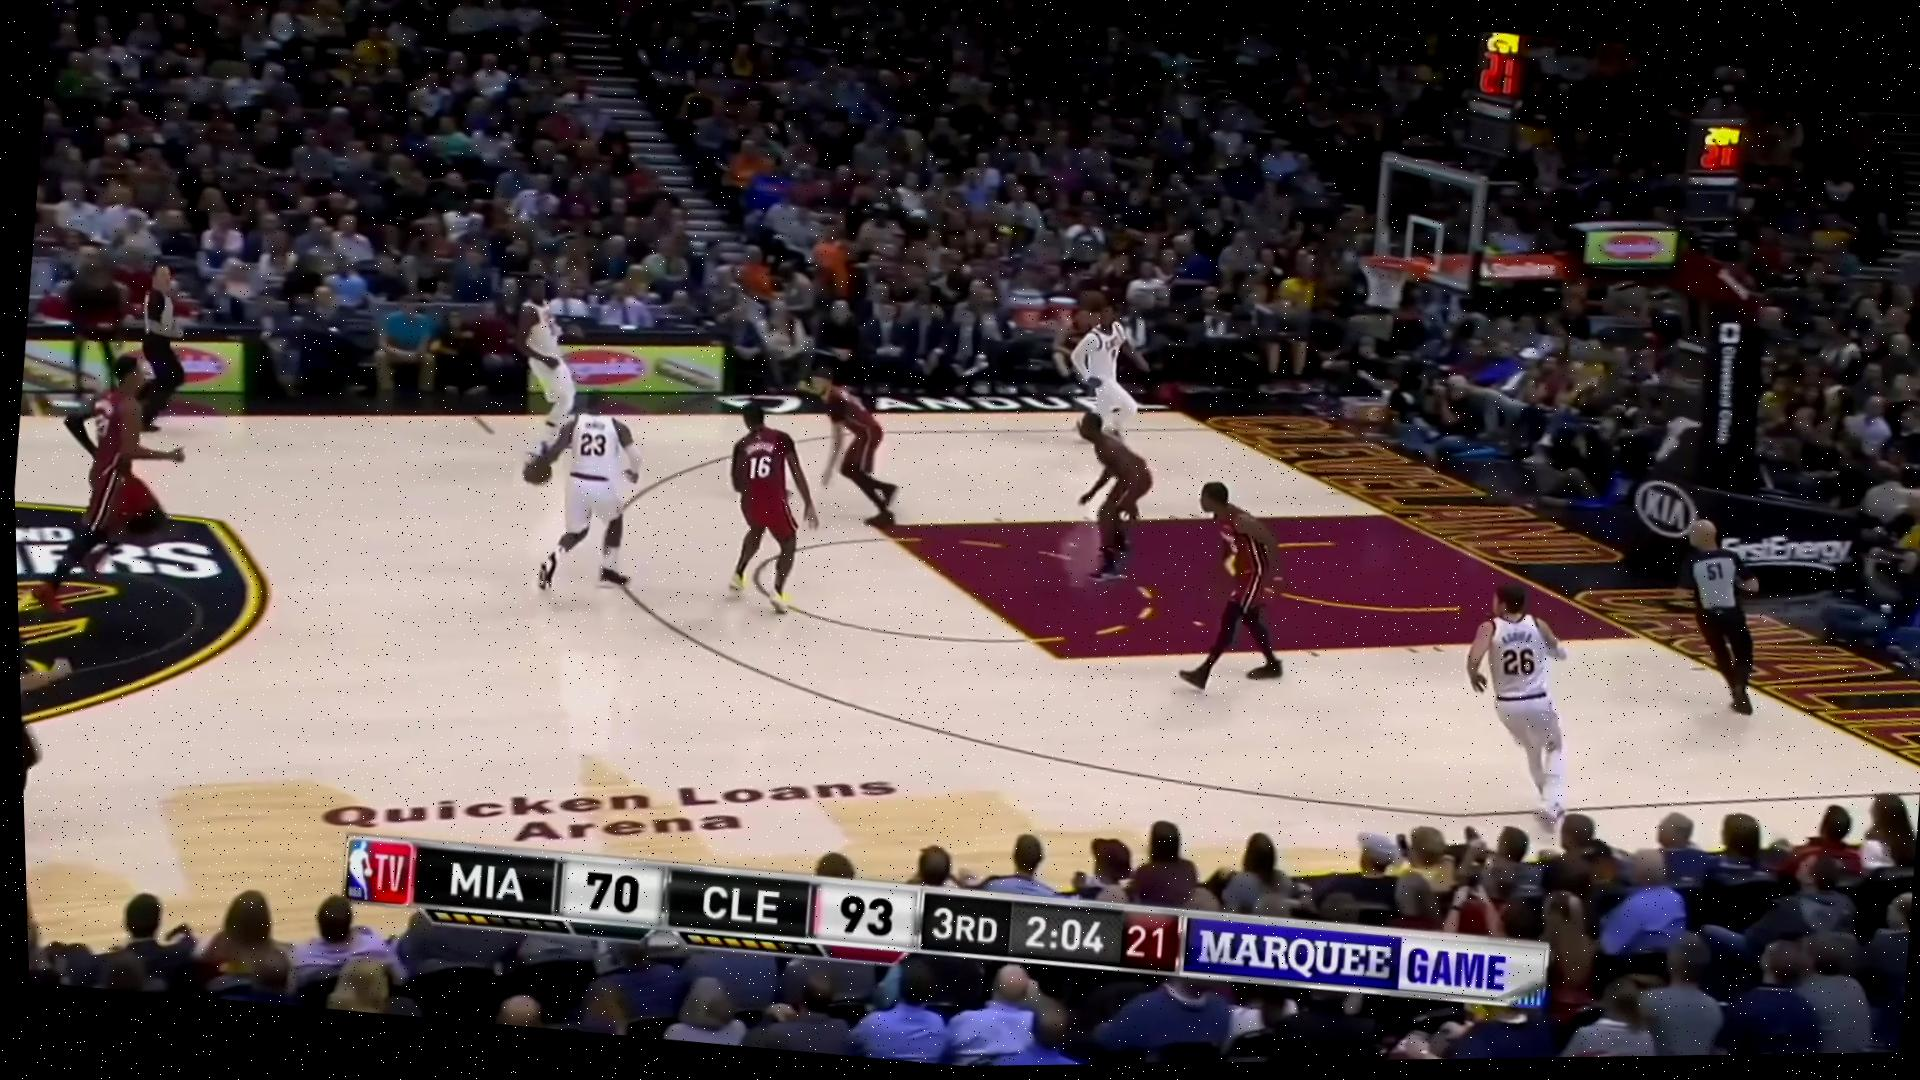no_foul: (496, 369, 893, 657)
